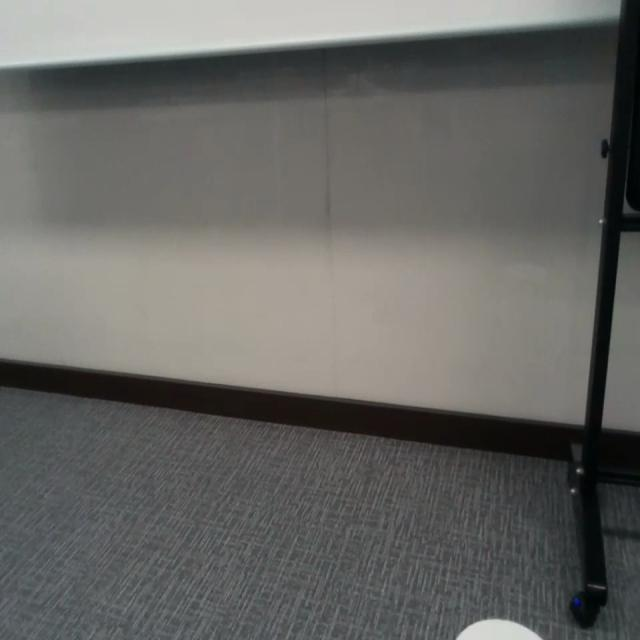cylinder: (452, 617, 545, 639)
